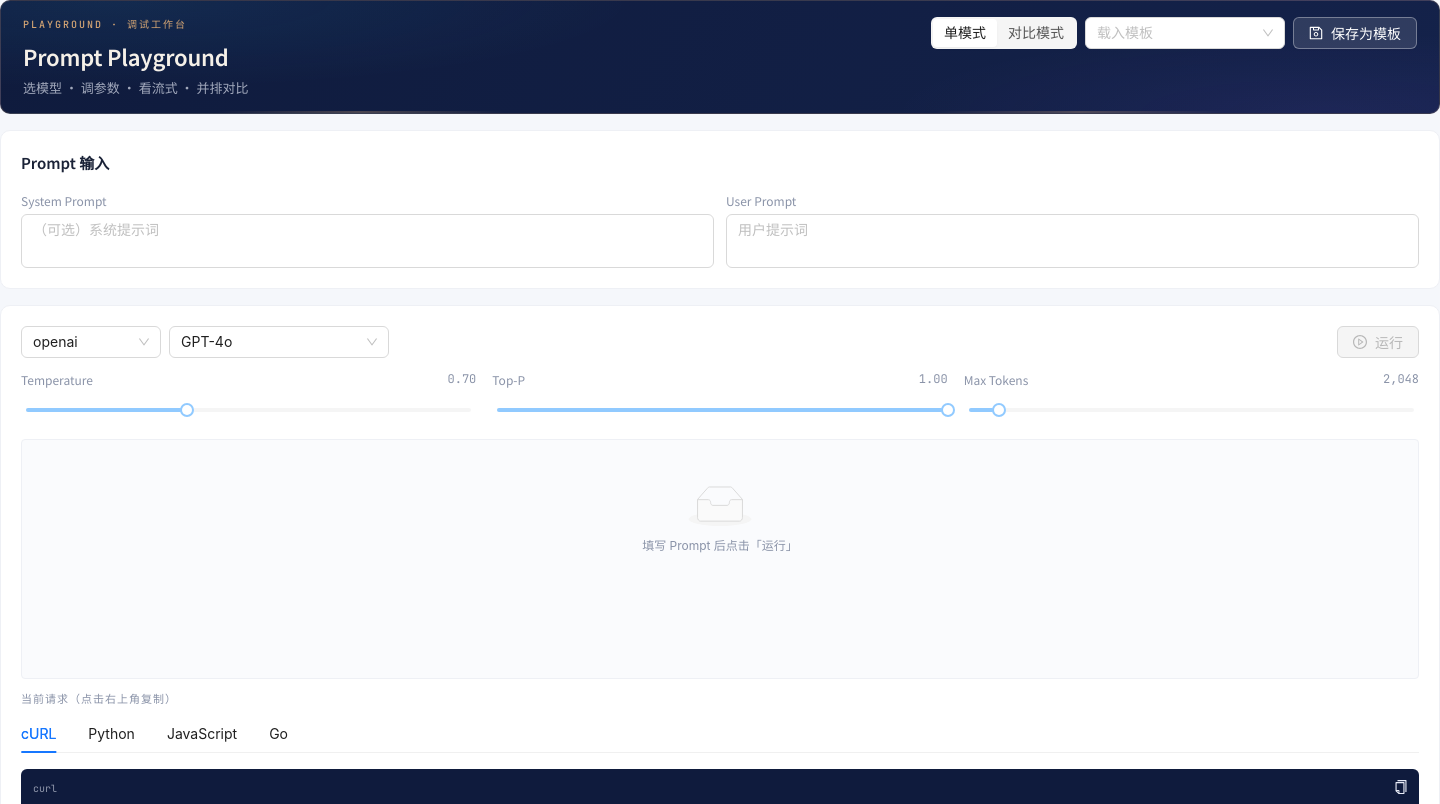
Test: Playground — /playground › HTTP 500 → ErrorState with retry
This screenshot has width=1440, height=804.
Expected: the text "GPT-4o" is shown, [181,333,232,350]
Type "will fail" into the text box with test id "pg-user" at coordinates (1072, 241), box [726,214,1419,268]
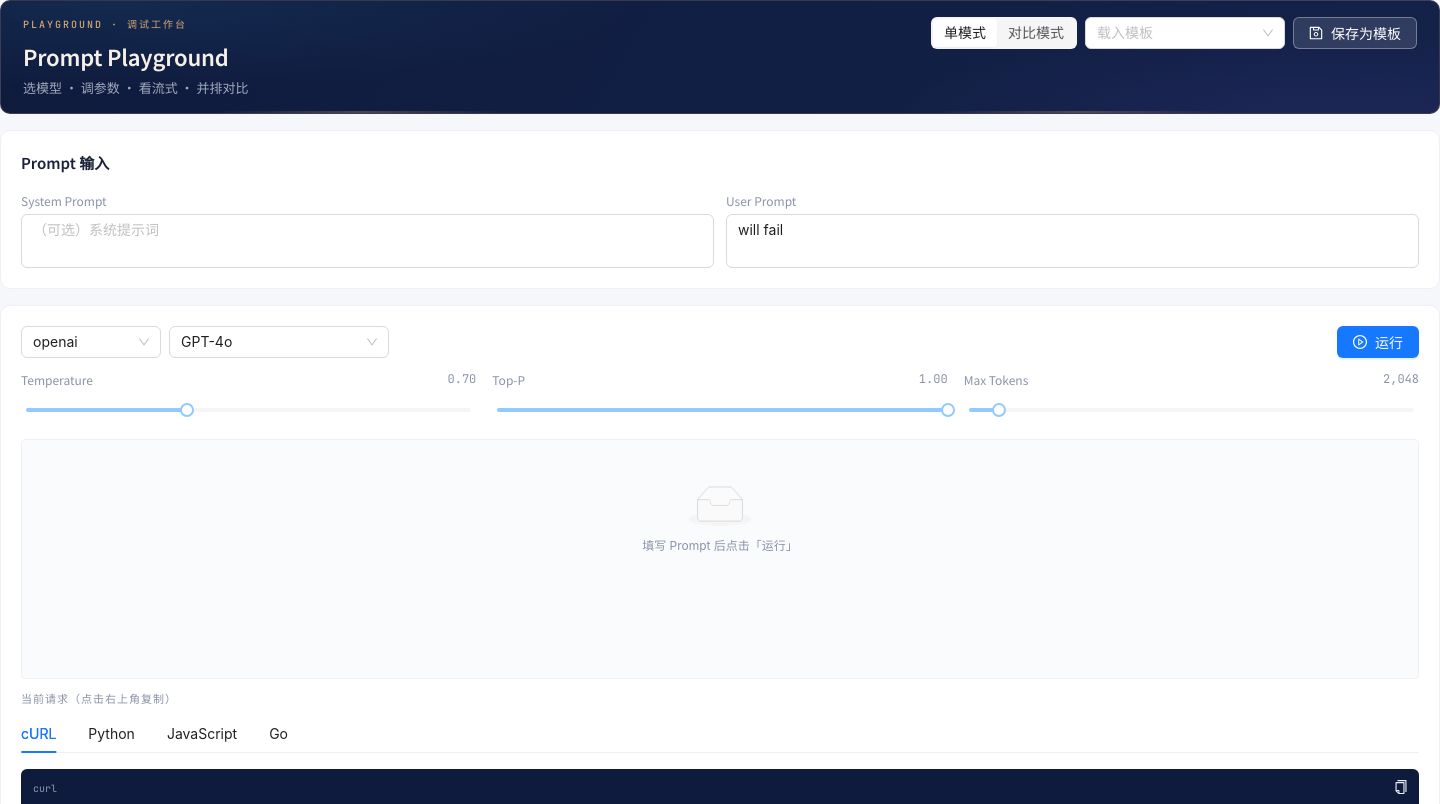
Click the button with test id "pg-run" at coordinates (1378, 342), box [1337,326,1419,358]
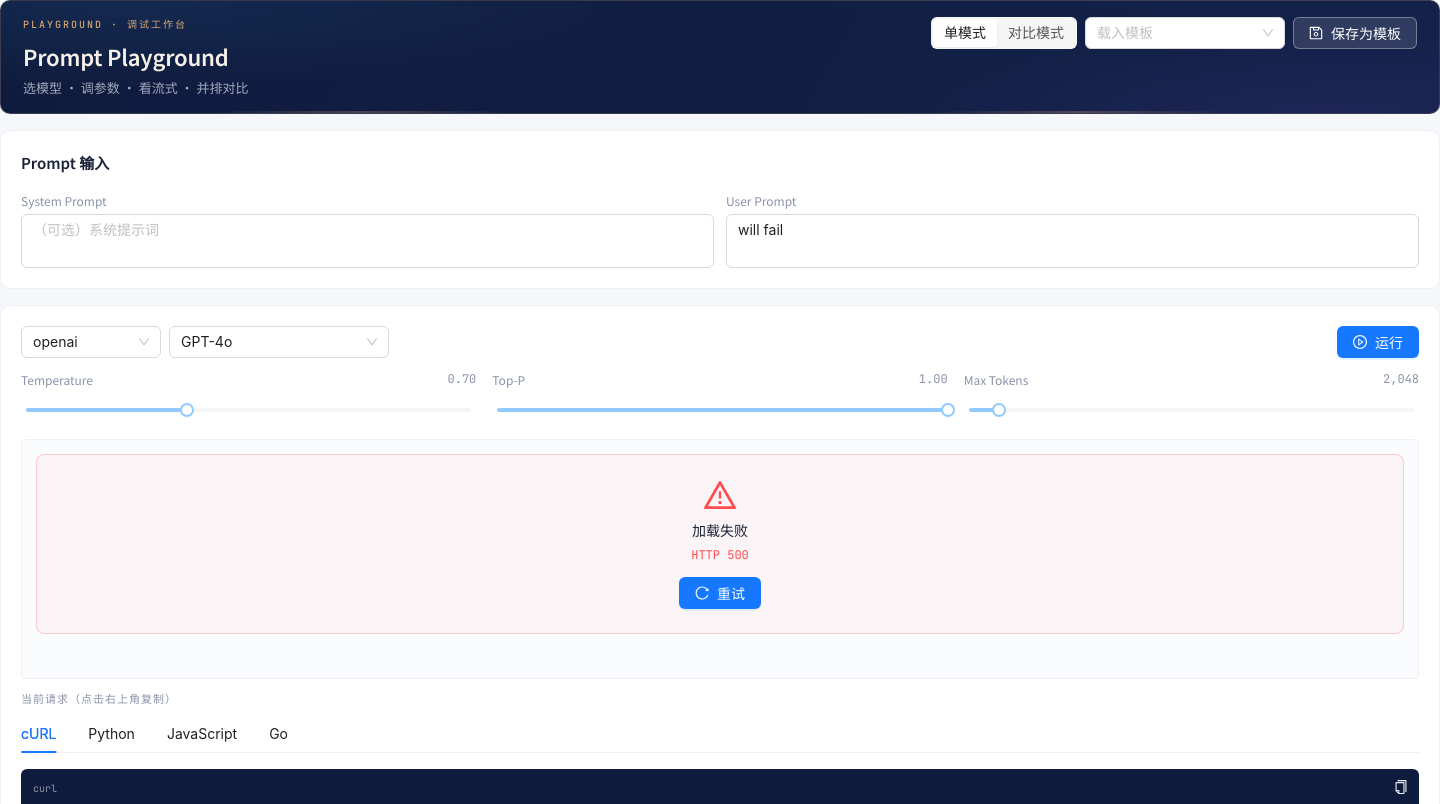
Result: the text "加载失败" is shown at [692,520,748,540]
Result: the text "HTTP 500" is shown at [691,547,749,563]
Result: the button "重试" is shown at [679,577,761,609]
